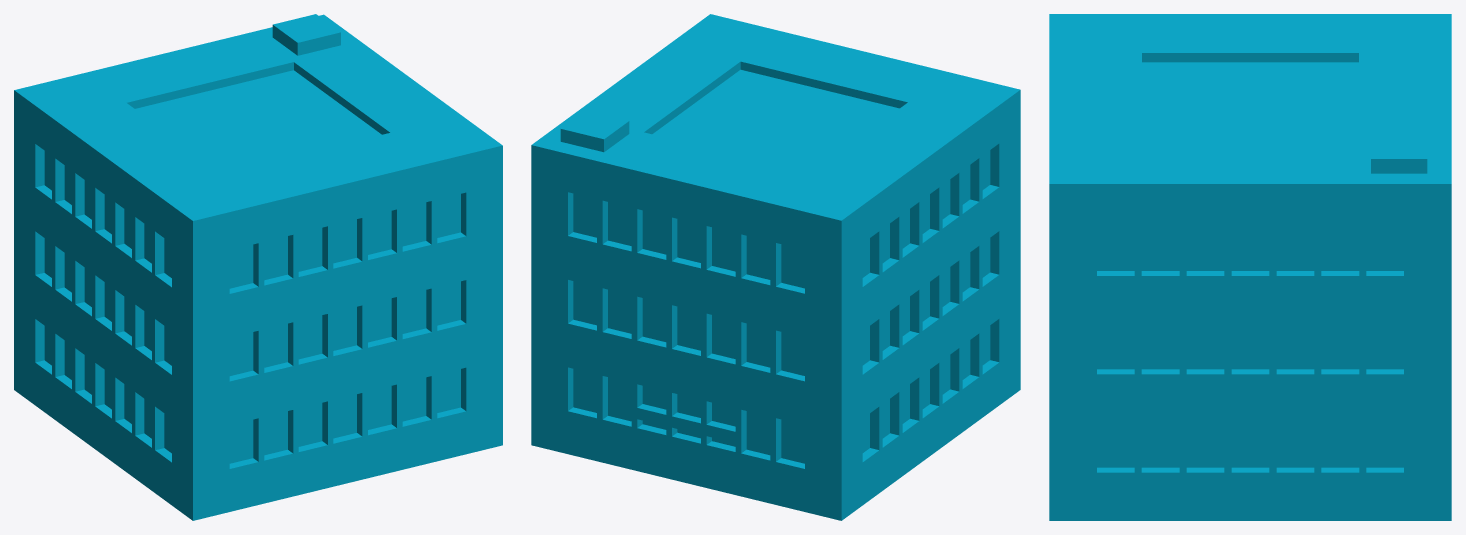
The model's file is educational.glb.
3 views of the same model, side by side, from view 1: azimuth 30°, elevation 25°; view 2: azimuth 150°, elevation 25°; view 3: azimuth 270°, elevation 25° (orthographic). The views are drawn at different scales.
Parts seen in each view (by area): view 1: educational; view 2: educational; view 3: educational.
Part boxes in pixels (x1=…): educational: x1=14, y1=14, x2=502, y2=520; educational: x1=531, y1=14, x2=1020, y2=520; educational: x1=1049, y1=14, x2=1451, y2=520.
Size of the model in its own units: 1 by 0.965 by 1.
